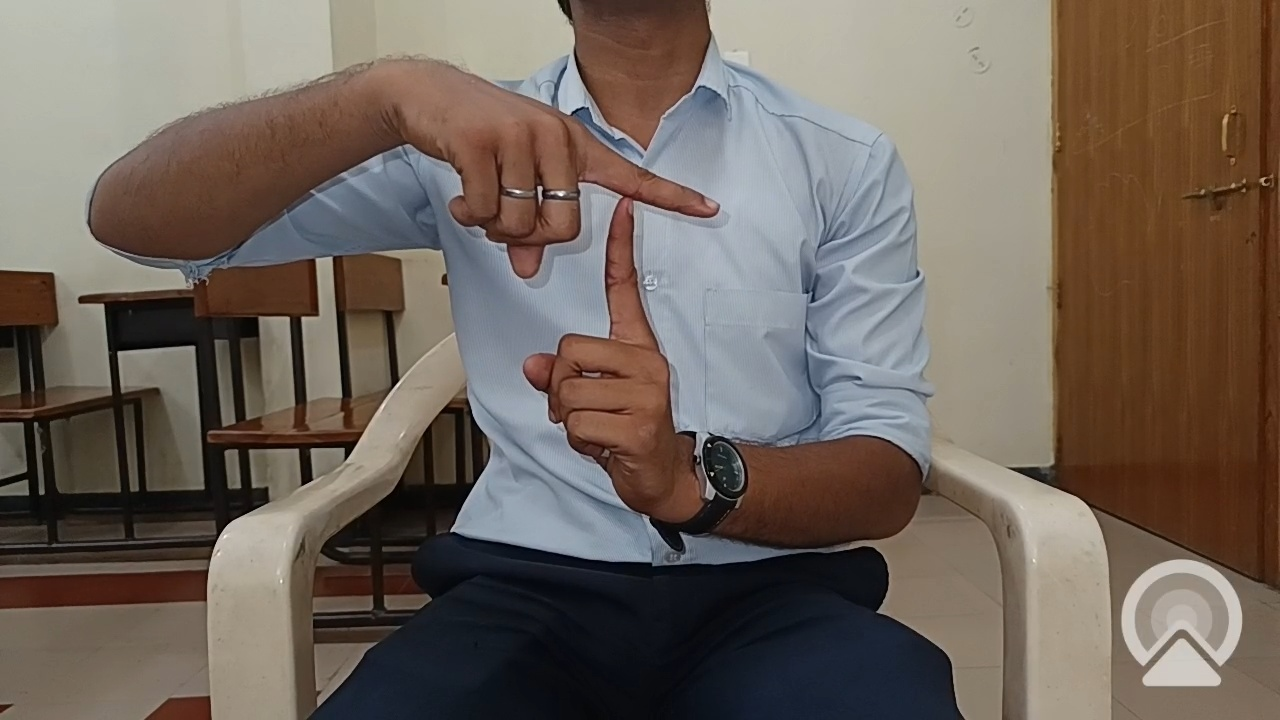T: (440, 45, 782, 448)
